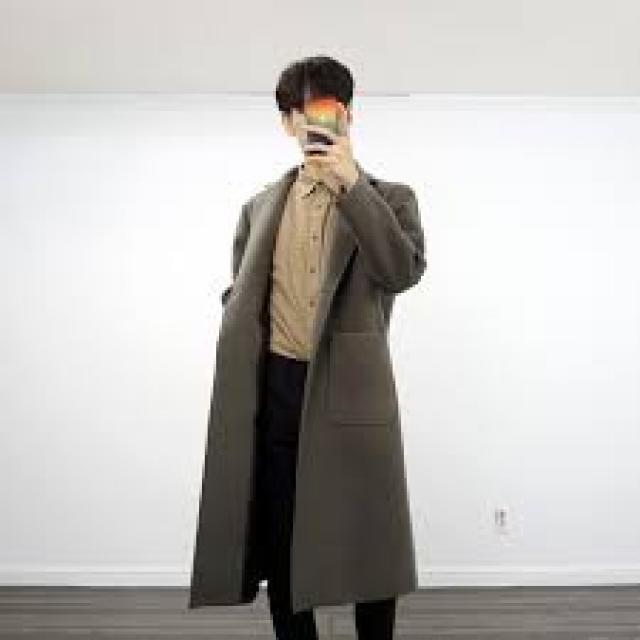Phone: (304, 96, 338, 159)
